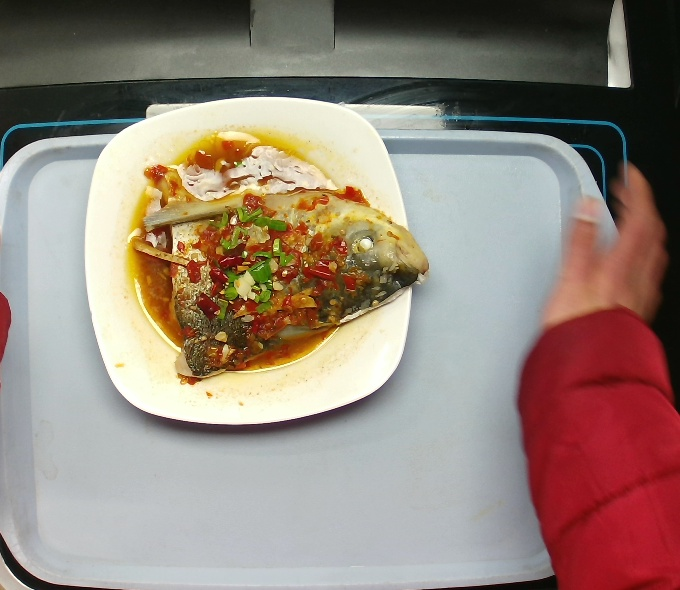wcq-DuoJiaoYuTou: (131, 154, 435, 390)
